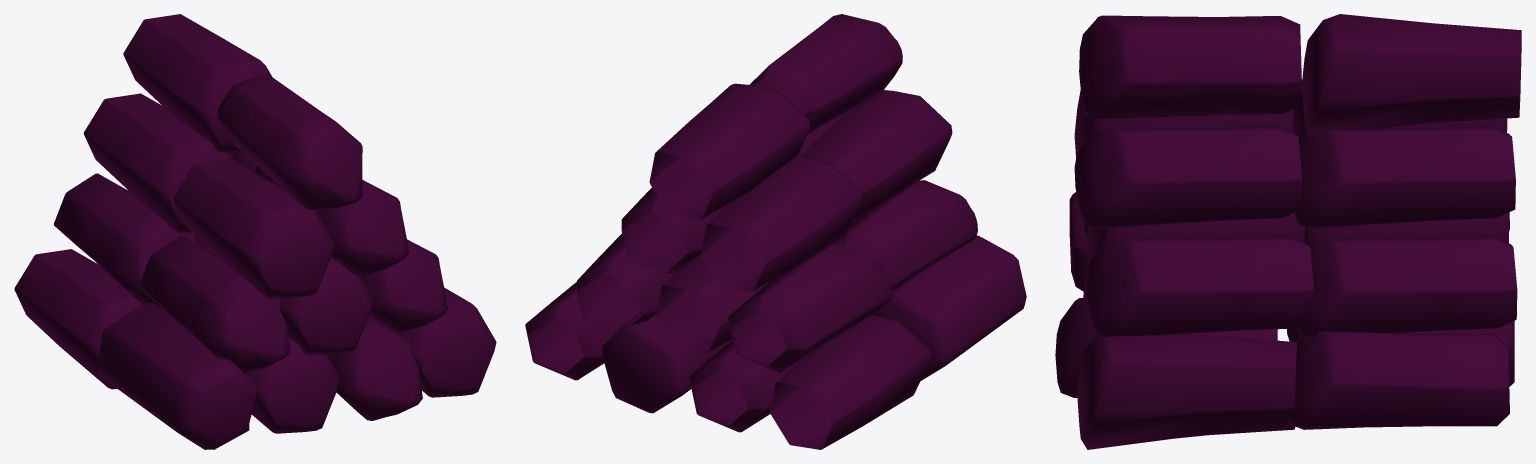
File: Cty_Bld_CrystaResource03_Mod.FBX
3 renders of one model, left to right at view 1: azimuth 30°, elevation 25°; view 2: azimuth 150°, elevation 25°; view 3: azimuth 270°, elevation 25°, orthographic. The views are drawn at different scales.
Parts seen in each view (by area): view 1: Wmp_Bld_CrystaResource03_Mod; view 2: Wmp_Bld_CrystaResource03_Mod; view 3: Wmp_Bld_CrystaResource03_Mod.
Part boxes in pixels (<box>): Wmp_Bld_CrystaResource03_Mod: <box>14,14,496,449</box>; Wmp_Bld_CrystaResource03_Mod: <box>525,14,1026,449</box>; Wmp_Bld_CrystaResource03_Mod: <box>1055,14,1521,449</box>.
Bounding box in the file's own units: 706 × 731 × 604.
